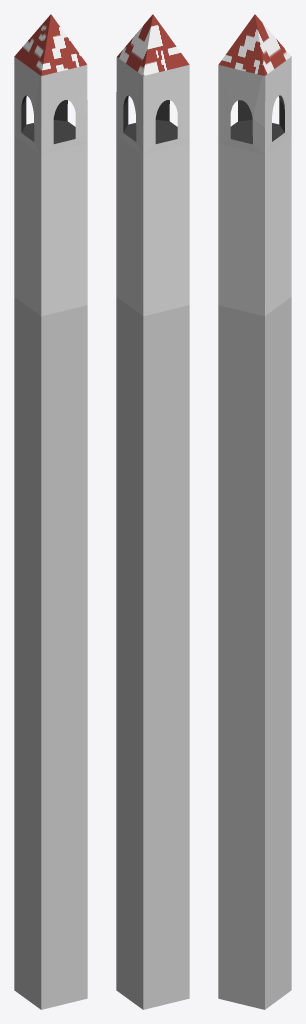
The model's file is RopeTower_2.fbx.
3 views of the same model, side by side, from view 1: azimuth 30°, elevation 25°; view 2: azimuth 210°, elevation 25°; view 3: azimuth 330°, elevation 25° (orthographic).
Visible parts, largest first — view 1: Cube; view 2: Cube; view 3: Cube.
Part boxes in pixels (x1,y1,x2,y2): Cube: [14, 14, 87, 1009]; Cube: [116, 14, 189, 1009]; Cube: [218, 14, 291, 1009].
Bounding box in the file's own units: 182 × 3653 × 182.
